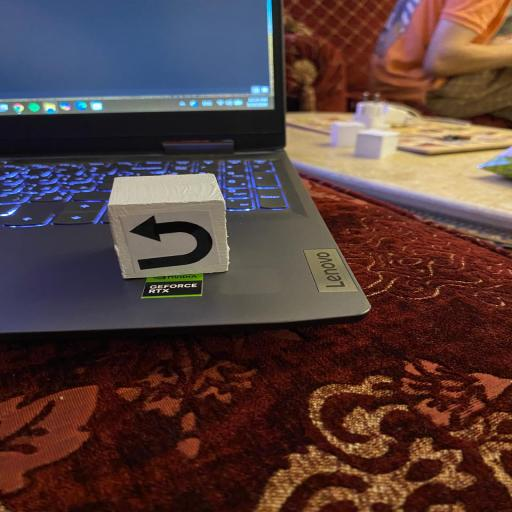Undo: (104, 173, 234, 279)
